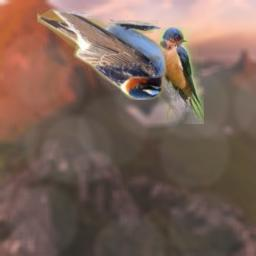Swallow: (37, 7, 167, 100), (158, 27, 204, 124)
